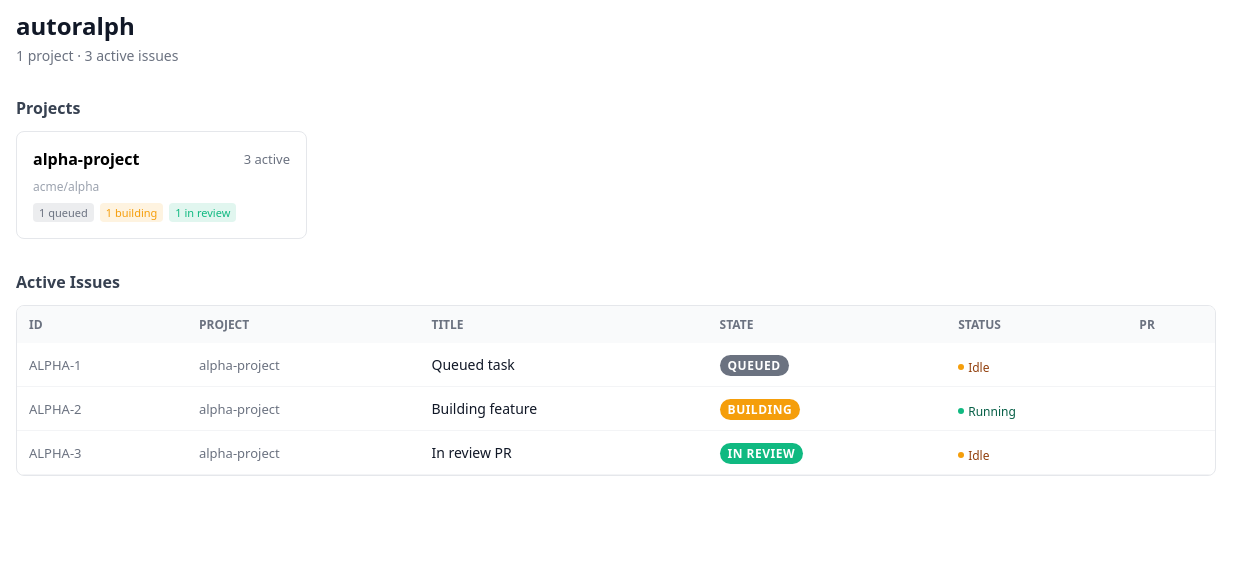
Scenario: IT-001: End-to-end navigation flow › navigates from Dashboard to ProjectDetail to IssueDetail
Expected: the heading "alpha-project" is shown, [33,148,140,170]
Note: Click on project card
Click the link "alpha-project". click: (162, 185)
box: [16,131,307,239]
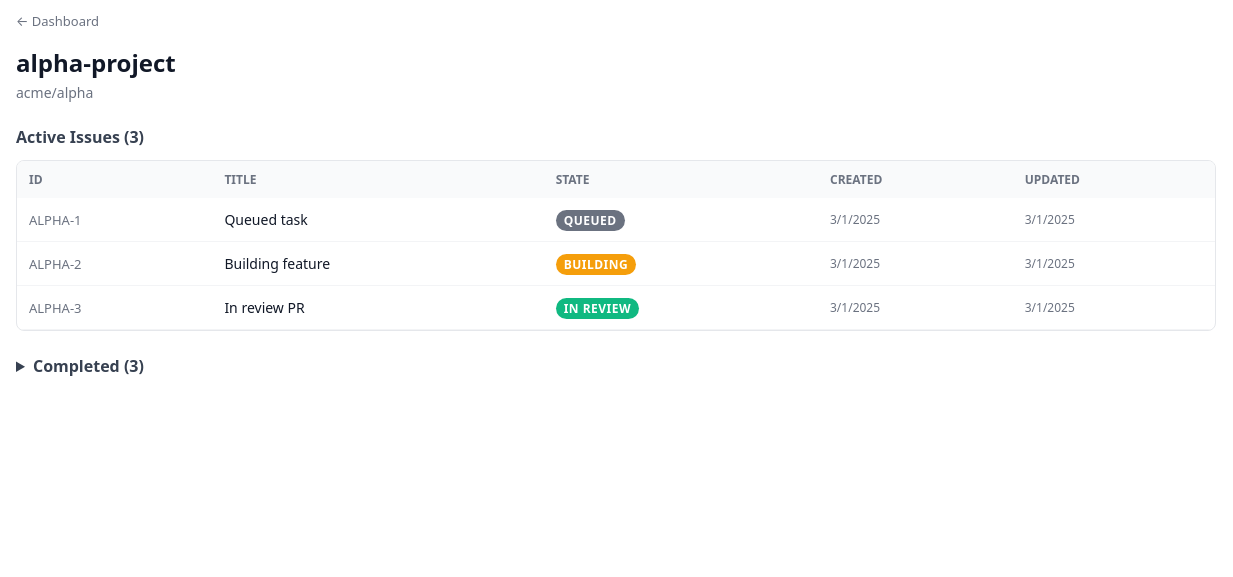
Expected: the link "Queued task" is shown, [224,210,308,229]
Expected: the text "acme/alpha" is shown, [16,83,93,102]
Expected: the heading "alpha-project" is shown, [16,46,176,79]
Note: Click to expand completed section
Click the heading "Completed (3)". click: (88, 366)
box: [33,355,144,377]
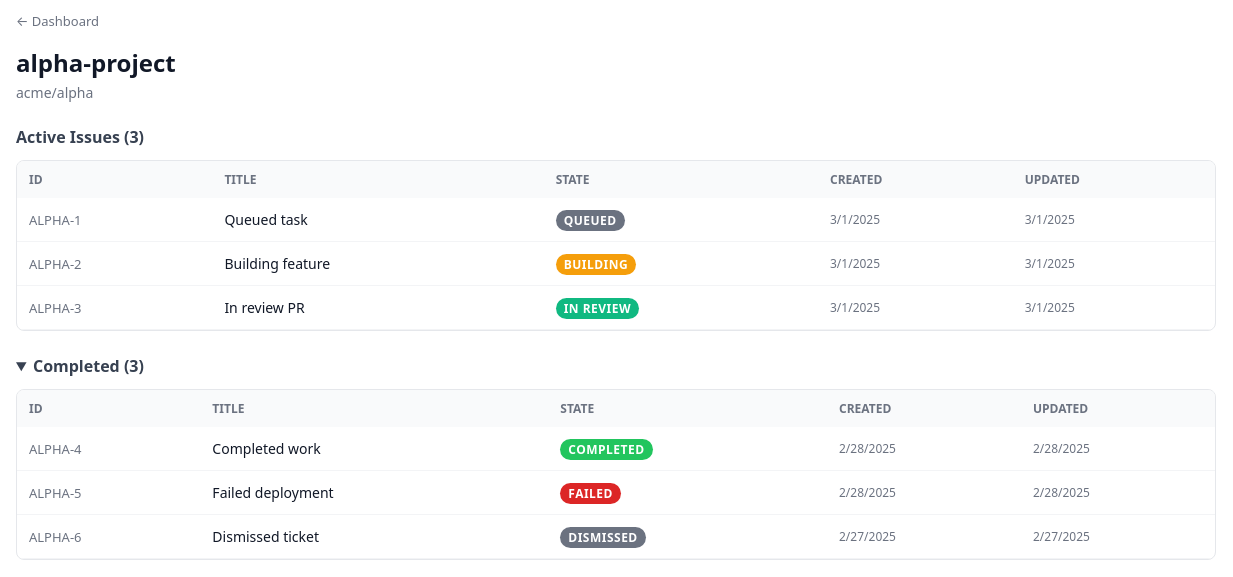
Expected: the link "Completed work" is shown, [212,439,321,458]
Expected: the link "Failed deployment" is shown, [212,483,334,502]
Expected: the link "Dismissed ticket" is shown, [212,527,319,546]
Note: Click on an issue row
Click the link "ALPHA-1". click: (55, 220)
box: [29,210,82,228]
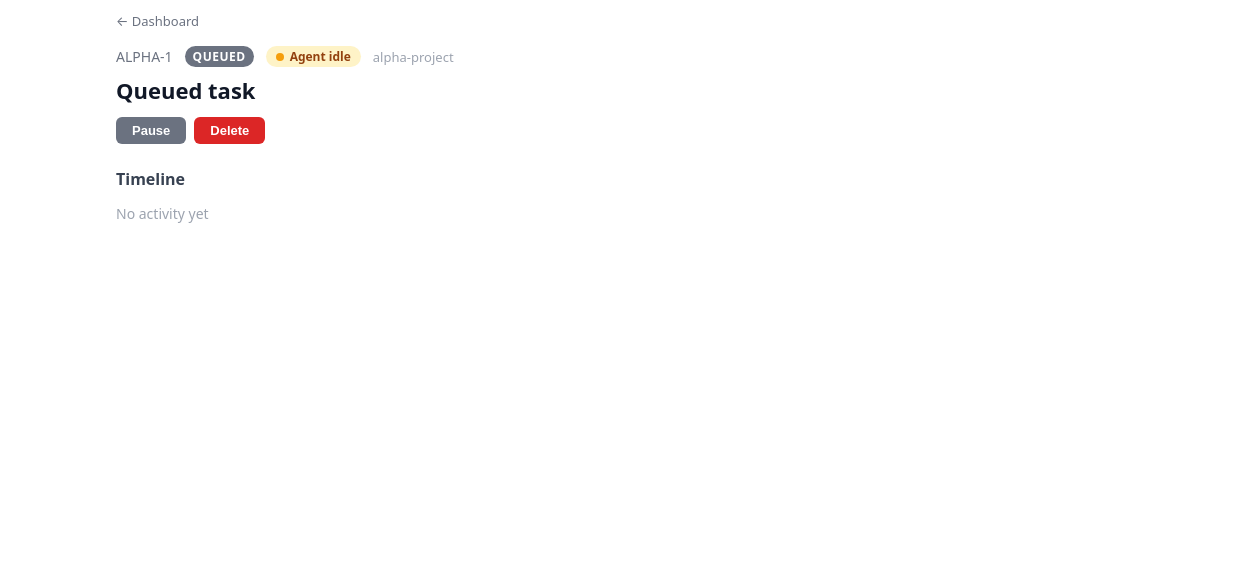
Expected: the heading "Queued task" is shown, [116,75,256,105]
